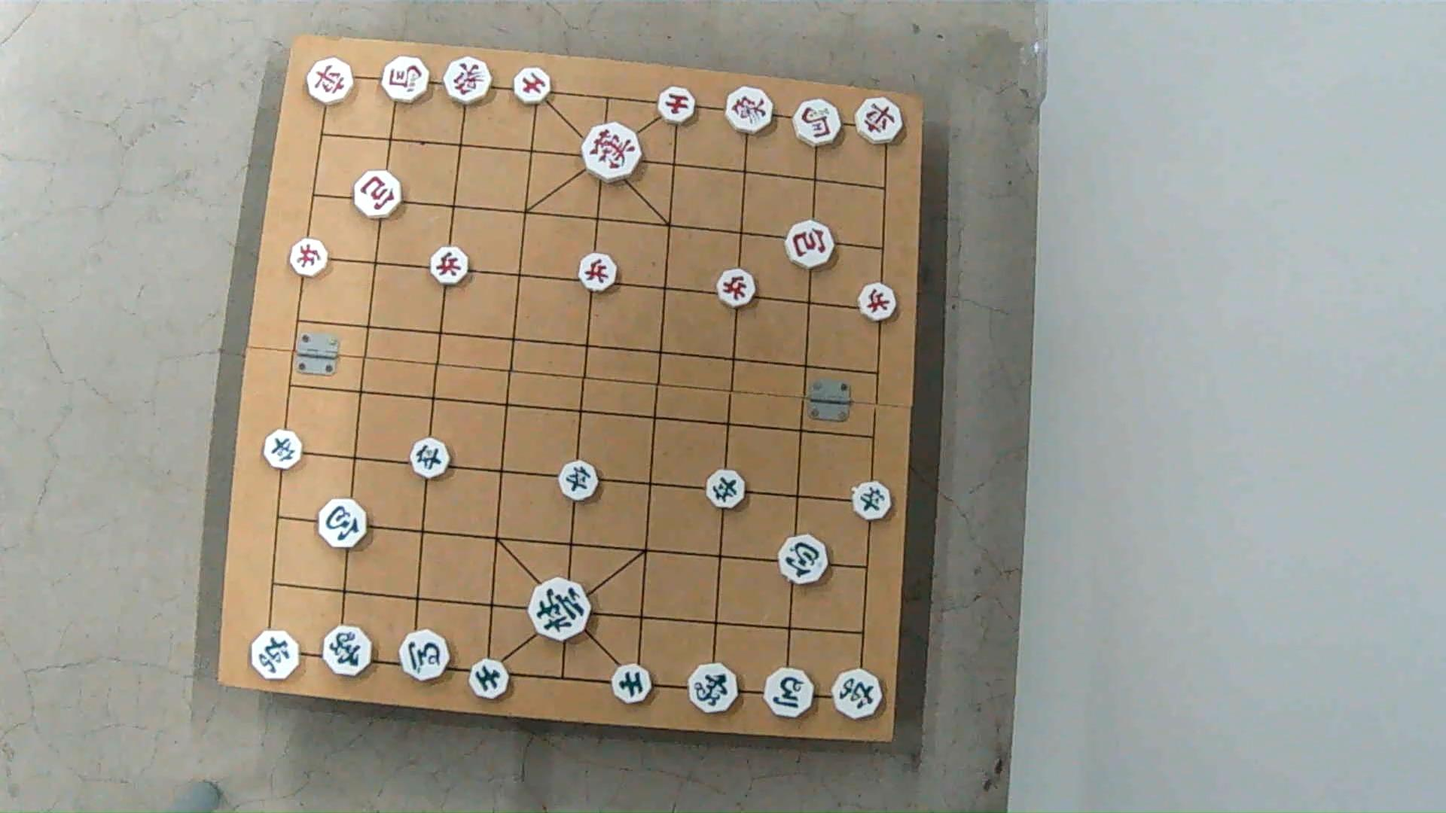cha_green: (248, 633, 298, 681), (834, 670, 882, 718)
cha_red: (853, 96, 904, 145), (306, 59, 355, 102)
jol_green: (408, 439, 449, 478), (557, 463, 598, 501), (706, 471, 748, 508), (851, 483, 893, 519), (261, 431, 300, 469)
jol_red: (717, 269, 758, 306), (581, 255, 621, 292), (426, 248, 466, 285), (860, 286, 900, 322), (290, 241, 331, 276)
ma_green: (400, 631, 450, 679), (764, 669, 815, 716)
ma_red: (380, 56, 430, 102), (795, 102, 844, 147)
po_green: (775, 534, 831, 586), (319, 498, 368, 552)
po_red: (788, 221, 837, 266), (355, 171, 403, 216)
sa_green: (470, 656, 510, 700), (613, 665, 651, 702)
sa_red: (656, 87, 697, 122), (511, 70, 551, 104)
sang_green: (325, 626, 371, 679), (689, 663, 738, 712)
sang_red: (727, 86, 773, 135), (445, 56, 490, 105)
wang_green: (530, 583, 593, 641)
wang_red: (583, 124, 644, 179)
